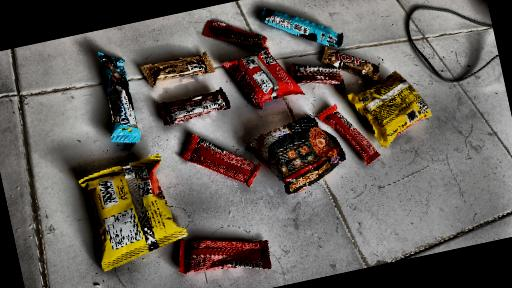chocho: (164, 116, 299, 288)
dilan: (91, 41, 167, 159)
mie sedap: (236, 110, 372, 202)
momotaro: (72, 149, 206, 270), (334, 71, 442, 140), (218, 41, 313, 117)
